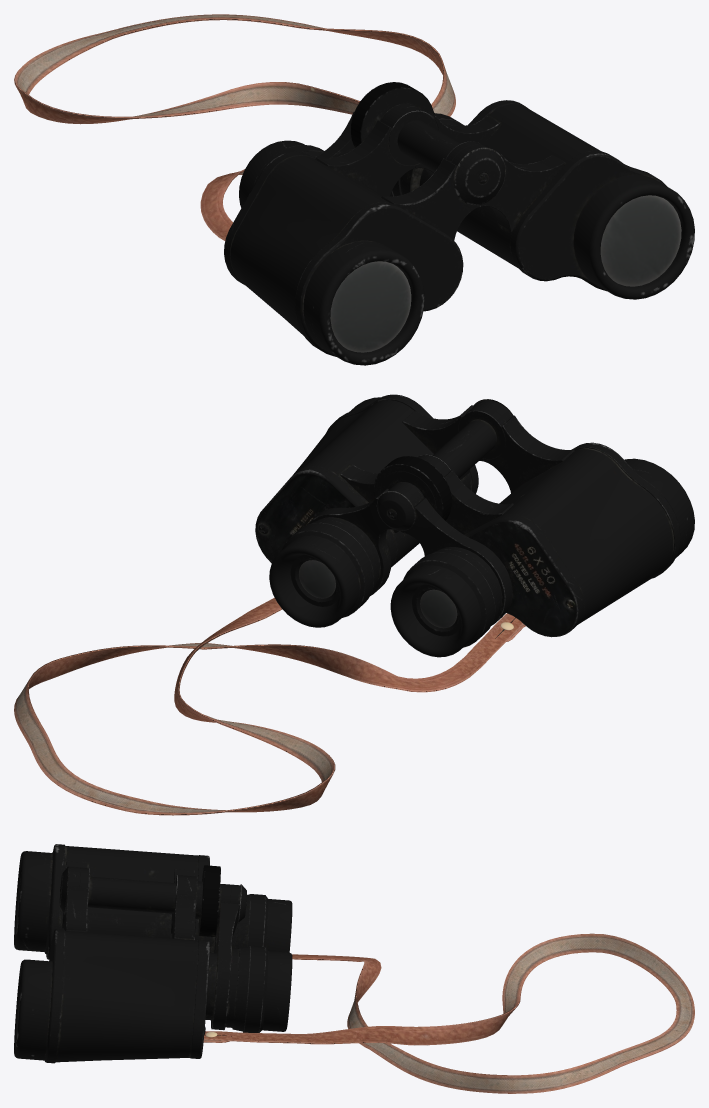
3 renders of one model, top to bottom at view 1: azimuth 30°, elevation 25°; view 2: azimuth 150°, elevation 25°; view 3: azimuth 270°, elevation 25°, orthographic. The views are drawn at different scales.
Visible parts, largest first — view 1: binoculars_right, binoculars_left, binoculars_strap, binoculars_column; view 2: binoculars_right, binoculars_left, binoculars_strap, binoculars_column; view 3: binoculars_left, binoculars_strap, binoculars_right, binoculars_column.
Boxes of the visible parts, x1,y1,x2,y2 form: binoculars_right: (224, 111, 480, 365); binoculars_left: (390, 100, 694, 299); binoculars_strap: (14, 14, 455, 240); binoculars_column: (350, 82, 505, 205); binoculars_right: (390, 415, 694, 657); binoculars_left: (255, 394, 483, 627); binoculars_strap: (14, 598, 525, 815); binoculars_column: (373, 399, 513, 533); binoculars_left: (14, 886, 292, 1063); binoculars_strap: (203, 933, 694, 1093); binoculars_right: (14, 844, 292, 959); binoculars_column: (59, 865, 246, 936).
Size of the model in its own units: 0.1669 by 0.0662 by 0.2879.
2 materials, 2 textured.
